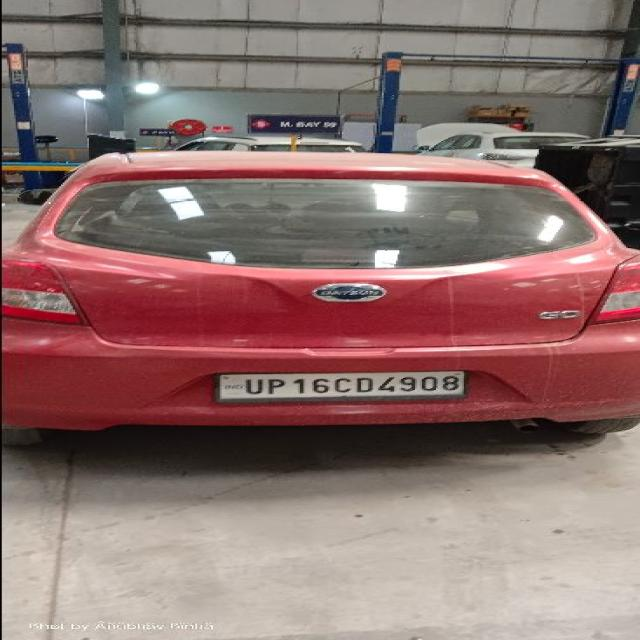license_plate: (211, 370, 467, 402)
